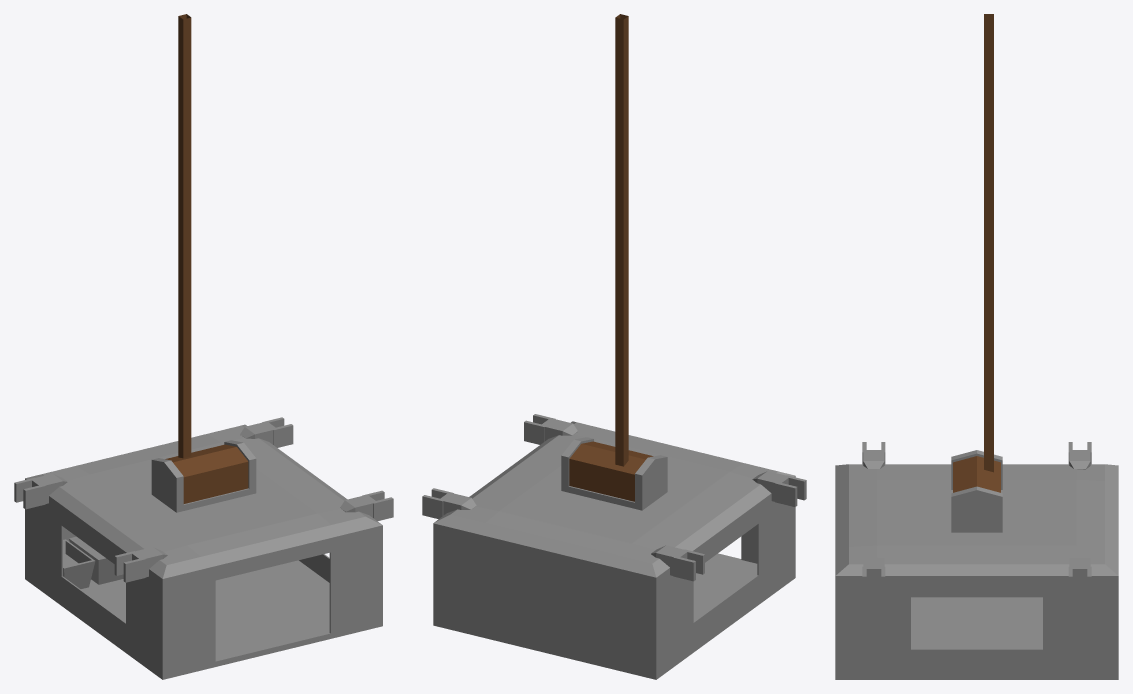
The model's file is SM_Elevator.fbx.
3 renders of one model, left to right at view 1: azimuth 30°, elevation 25°; view 2: azimuth 150°, elevation 25°; view 3: azimuth 270°, elevation 25°, orthographic. The views are drawn at different scales.
Parts seen in each view (by area): view 1: Elevator Floor, Cube.002, Cube, Elevator Wheels, Ore Bucket; view 2: Elevator Floor, Cube.002, Cube, Elevator Wheels; view 3: Elevator Floor, Cube.002, Cube, Elevator Wheels.
Part boxes in pixels (bbox=[...]): Elevator Floor: bbox=[25, 424, 382, 679]; Cube.002: bbox=[178, 14, 191, 458]; Cube: bbox=[151, 440, 256, 512]; Elevator Wheels: bbox=[14, 417, 393, 582]; Ore Bucket: bbox=[63, 536, 123, 588]; Elevator Floor: bbox=[433, 421, 795, 679]; Cube.002: bbox=[615, 14, 628, 466]; Cube: bbox=[561, 437, 667, 510]; Elevator Wheels: bbox=[422, 414, 806, 581]; Elevator Floor: bbox=[835, 464, 1118, 679]; Cube.002: bbox=[984, 14, 993, 472]; Cube: bbox=[951, 450, 1002, 532]; Elevator Wheels: bbox=[862, 442, 1091, 595].
Size of the model in its own units: 899 by 1875 by 800.
